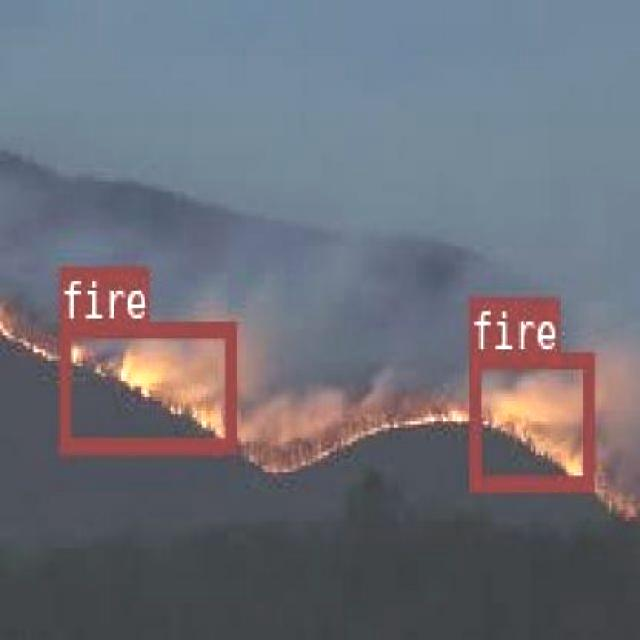fire: (59, 321, 232, 450), (466, 350, 592, 488)
